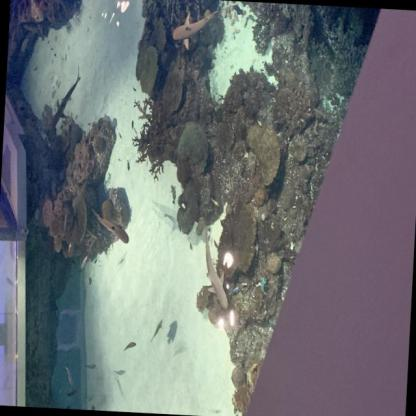fish: (149, 318, 164, 344), (63, 365, 76, 390), (169, 184, 179, 206), (80, 254, 90, 272), (122, 341, 137, 353), (260, 275, 268, 296), (66, 241, 76, 256), (229, 285, 240, 297), (83, 362, 97, 370), (268, 319, 275, 331), (94, 254, 100, 266), (130, 119, 135, 131), (126, 159, 131, 171), (117, 131, 123, 139), (239, 282, 248, 287), (132, 85, 136, 93), (54, 53, 56, 58)
shark: (48, 62, 85, 134), (201, 230, 233, 310), (172, 7, 224, 51), (89, 206, 131, 245)
